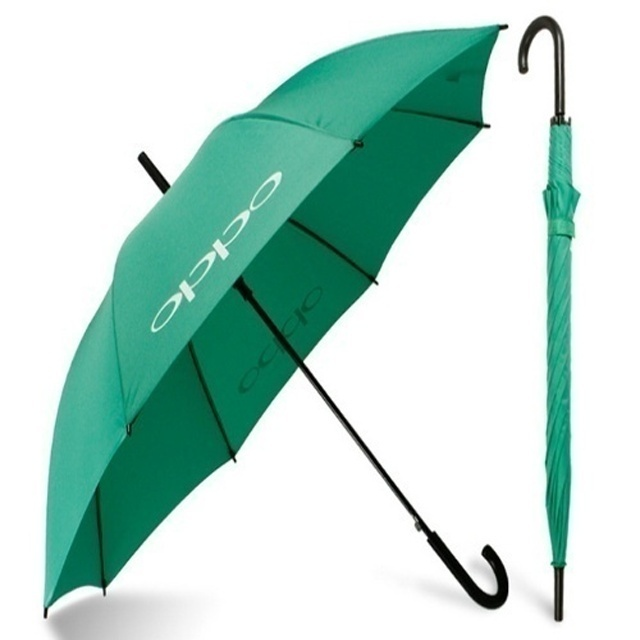umbrella: (40, 24, 512, 620), (516, 13, 580, 628)
